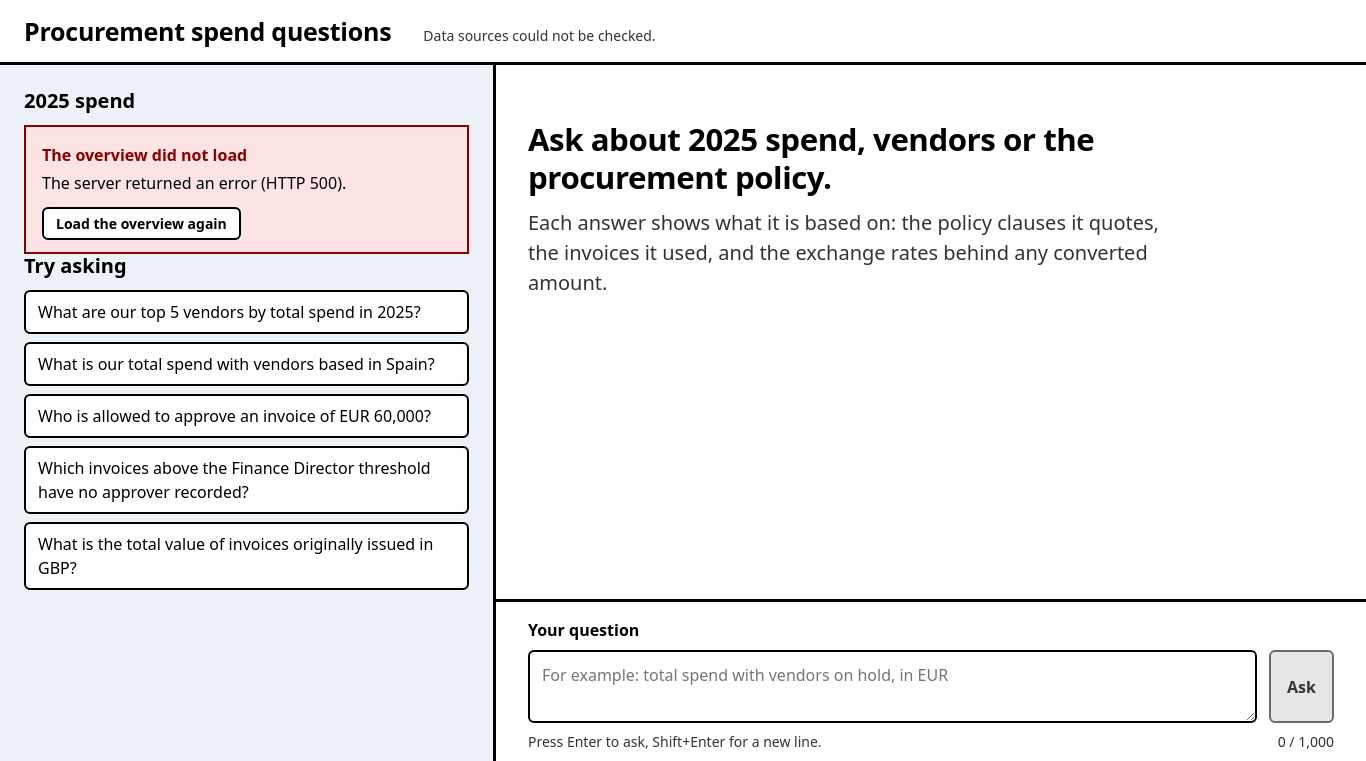
it: summary panel › explains a failed load and retries
Check: the text "The overview did not load" is shown, box [42,144,247,166]
Click the button "Load the overview again". click: {"x": 141, "y": 224}
box: [42,207,241,240]
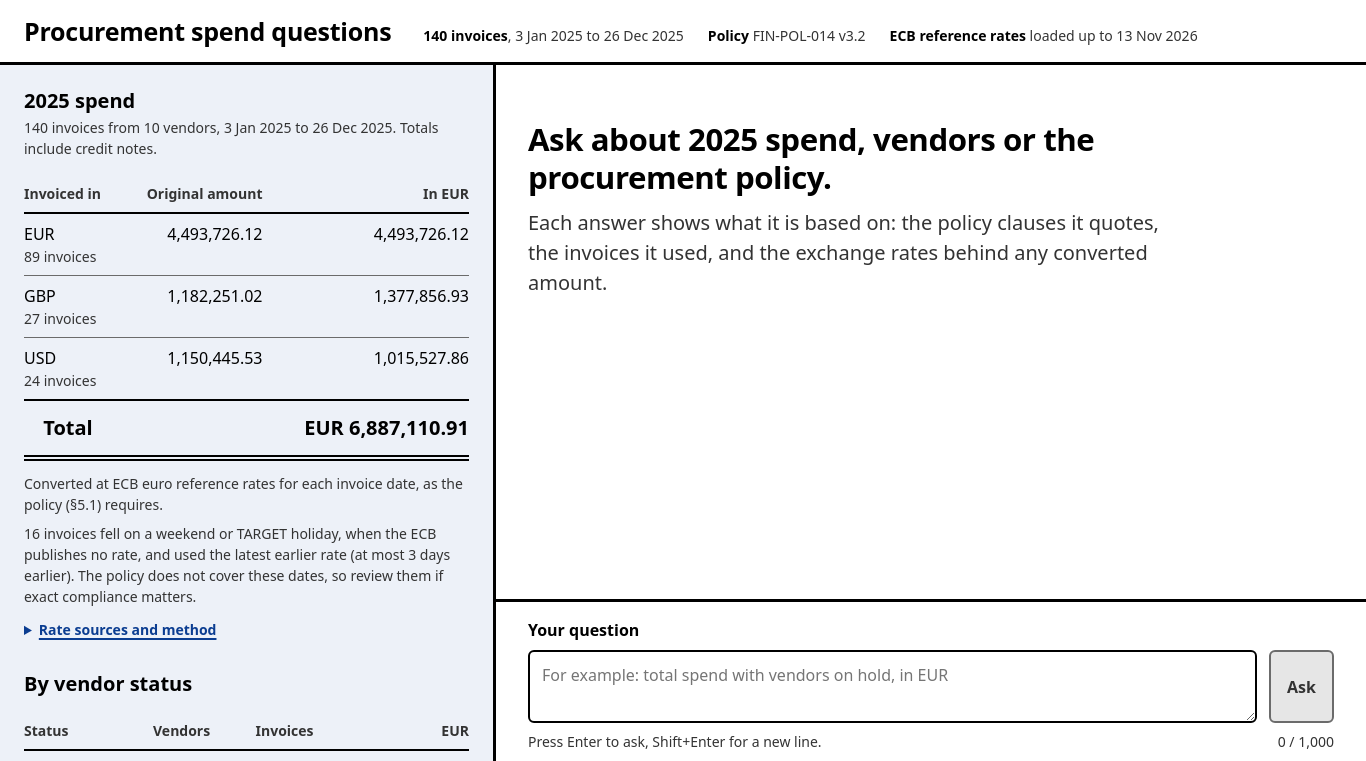
Check: the text "EUR 6,887,110.91" is shown, box [262,400,469,458]
